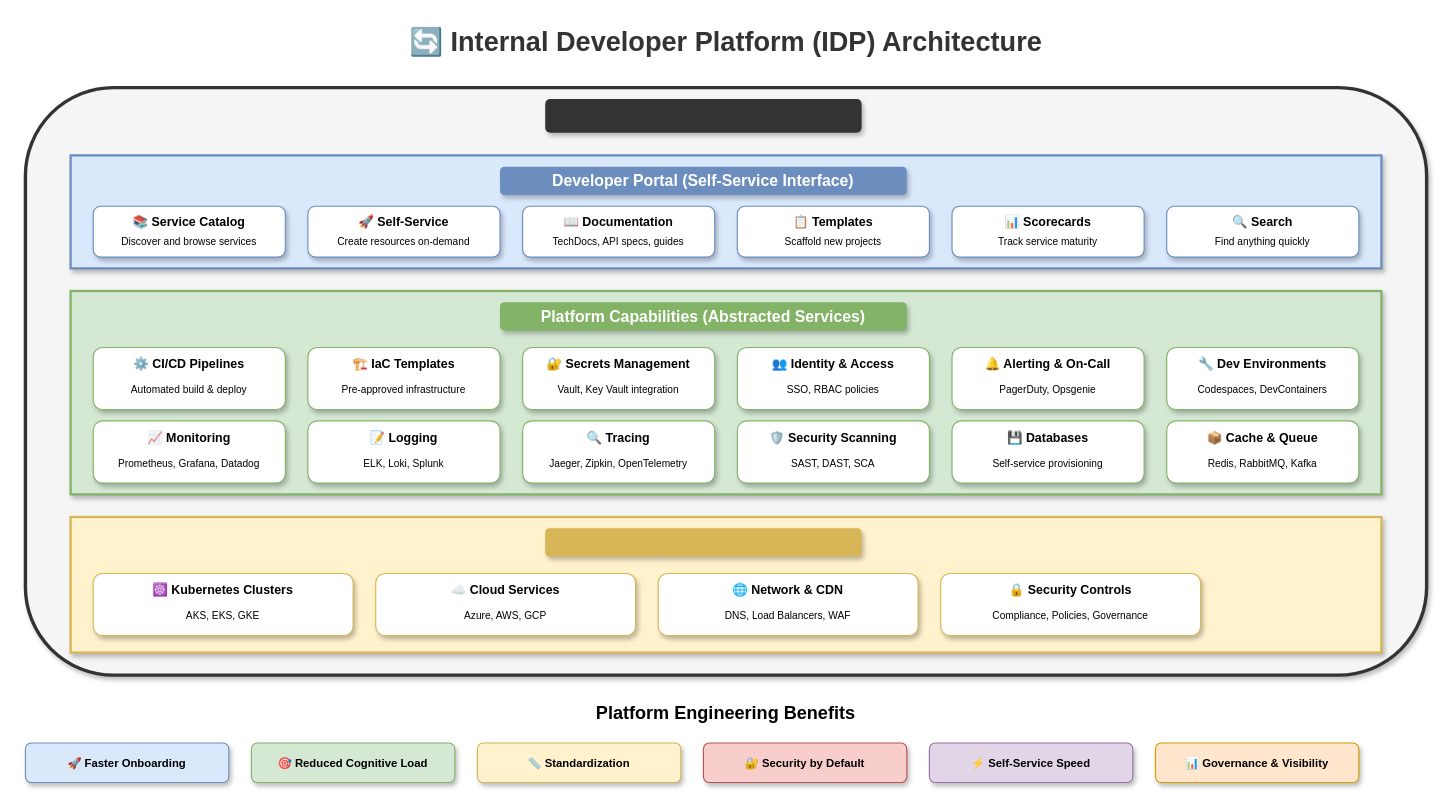
The diagram is 1454 pixels wide and 810 high, and some of its shapes have lost their labels. Each missing label, with the centre of its shape:
"Infrastructure Layer" goes at [704,543].
"Internal Developer Platform" goes at [704,117].
